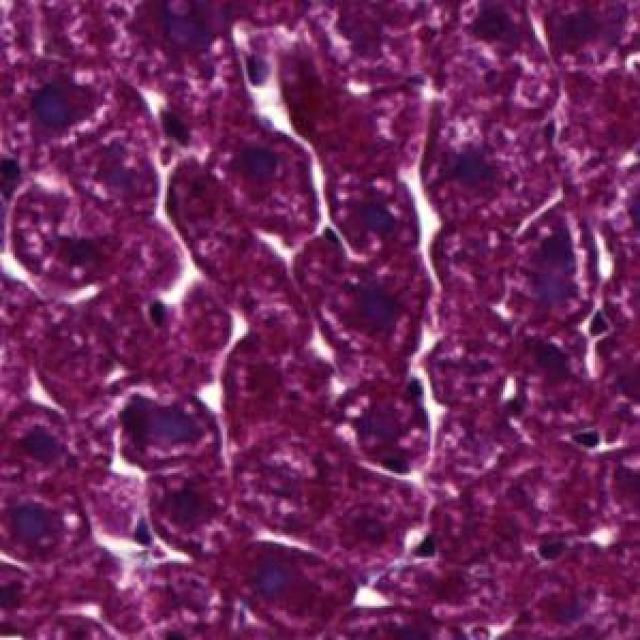inflammation: (505, 210, 627, 306), (105, 387, 222, 484)
